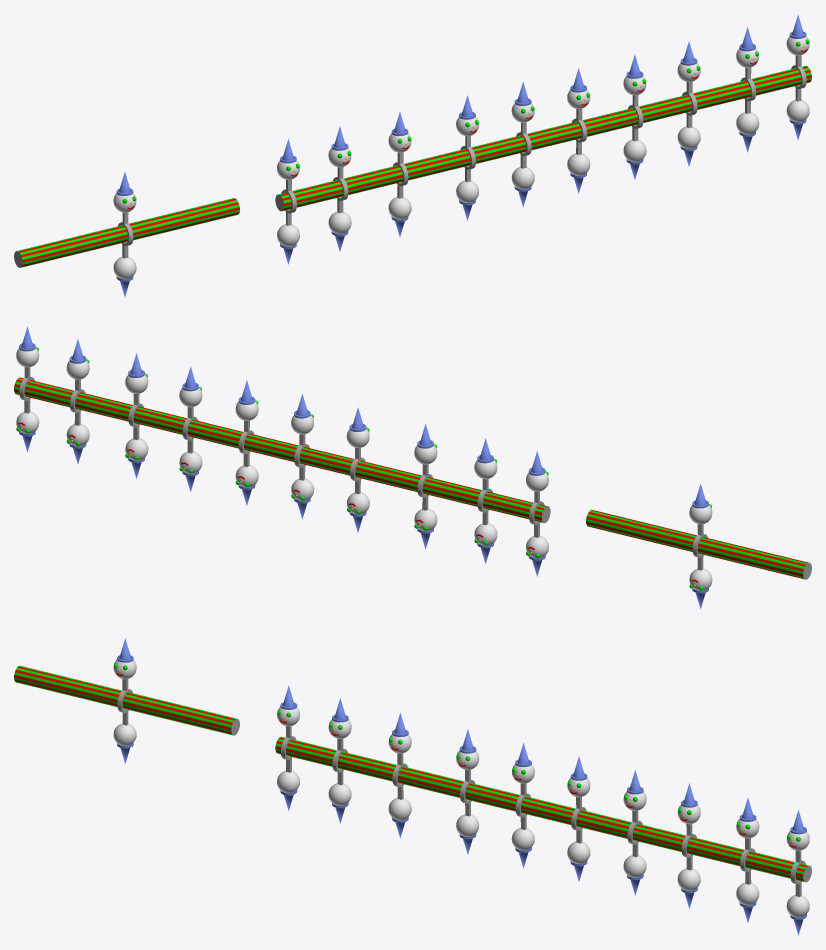
File: New Bar.fbx
3 renders of one model, top to bottom at view 1: azimuth 30°, elevation 25°; view 2: azimuth 150°, elevation 25°; view 3: azimuth 330°, elevation 25°, orthographic.
Parts seen in each view (by area): view 1: pasted__Cly, pasted__Cly2, pasted__Poly2, pasted__Poly6, pasted__Poly10, pasted__Poly9, pasted__Poly7, pasted__Poly1, pasted__Poly4, pasted__Poly5, pasted__Poly8, pasted__Poly (+3 smaller); view 2: pasted__Cly, pasted__Cly2, pasted__Poly1, pasted__Poly6, pasted__Poly7, pasted__Poly9, pasted__Poly2, pasted__Poly5, pasted__Poly10, pasted__Poly4, pasted__Poly8, pasted__Poly3 (+3 smaller); view 3: pasted__Cly, pasted__Cly3, pasted__Poly1, pasted__Poly10, pasted__Poly6, pasted__Poly5, pasted__Poly7, pasted__Poly9, pasted__Poly2, pasted__Poly4, pasted__Poly8, pasted__Poly3 (+3 smaller).
Boxes of the visible parts, bbox=[...] form: pasted__Cly: bbox=[275, 65, 811, 211]; pasted__Cly2: bbox=[14, 231, 102, 267]; pasted__Poly2: bbox=[388, 112, 411, 236]; pasted__Poly6: bbox=[623, 54, 646, 179]; pasted__Poly10: bbox=[113, 172, 136, 296]; pasted__Poly9: bbox=[786, 14, 809, 140]; pasted__Poly7: bbox=[677, 41, 700, 166]; pasted__Poly1: bbox=[328, 126, 351, 251]; pasted__Poly4: bbox=[511, 81, 534, 207]; pasted__Poly5: bbox=[567, 68, 590, 193]; pasted__Poly8: bbox=[736, 27, 759, 152]; pasted__Poly: bbox=[277, 139, 299, 264]; pasted__Cly: bbox=[14, 377, 550, 522]; pasted__Cly2: bbox=[723, 543, 811, 579]; pasted__Poly1: bbox=[474, 438, 497, 563]; pasted__Poly6: bbox=[179, 366, 202, 491]; pasted__Poly7: bbox=[125, 353, 148, 478]; pasted__Poly9: bbox=[16, 326, 39, 452]; pasted__Poly2: bbox=[414, 424, 437, 549]; pasted__Poly5: bbox=[235, 380, 258, 505]; pasted__Poly10: bbox=[689, 484, 712, 608]; pasted__Poly4: bbox=[291, 394, 314, 519]; pasted__Poly8: bbox=[66, 339, 89, 464]; pasted__Poly3: bbox=[346, 407, 369, 532]; pasted__Cly: bbox=[275, 736, 811, 882]; pasted__Cly3: bbox=[151, 699, 239, 735]; pasted__Poly1: bbox=[328, 698, 351, 823]; pasted__Poly10: bbox=[113, 638, 136, 763]; pasted__Poly6: bbox=[623, 770, 646, 895]; pasted__Poly5: bbox=[567, 756, 590, 881]; pasted__Poly7: bbox=[677, 783, 700, 908]; pasted__Poly9: bbox=[786, 810, 809, 935]; pasted__Poly2: bbox=[388, 713, 411, 837]; pasted__Poly4: bbox=[511, 743, 534, 868]; pasted__Poly8: bbox=[736, 798, 759, 922]; pasted__Poly3: bbox=[456, 729, 479, 854].
Size of the model in its own units: 52.37 by 8.47 by 1.45.
